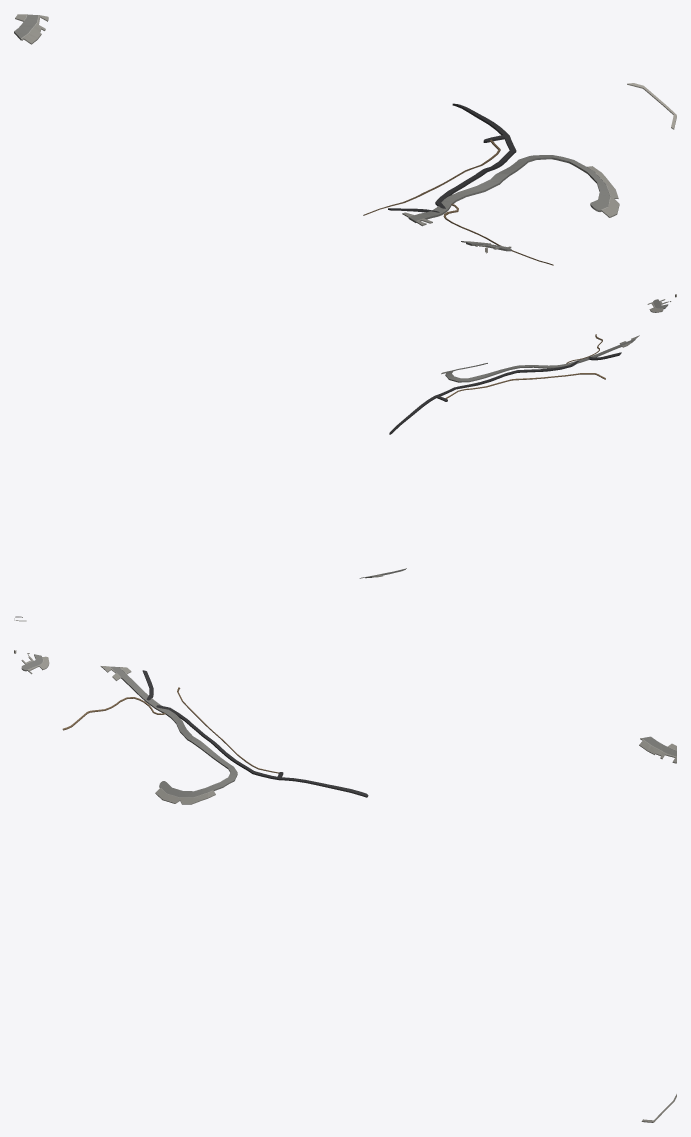
3 views of the same model, one above another, from view 1: azimuth 30°, elevation 25°; view 2: azimuth 150°, elevation 25°; view 3: azimuth 270°, elevation 25° (orthographic). The views are drawn at different scales.
Size of the model in its own units: 452 by 248 by 580.
